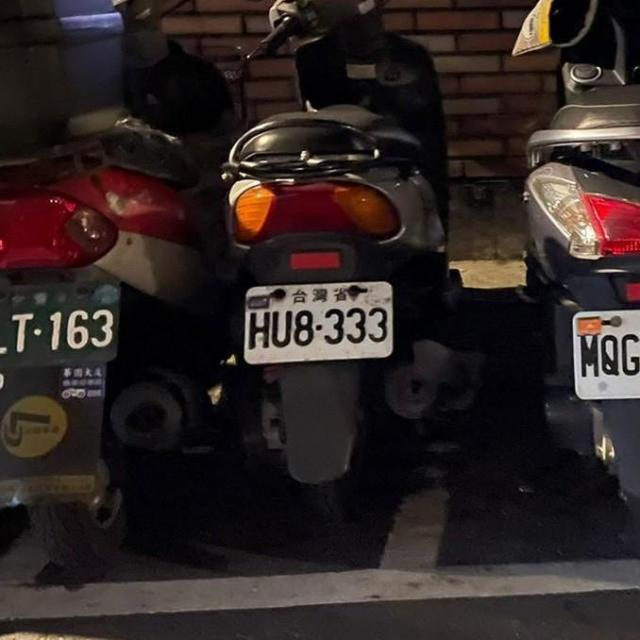GW: (2, 264, 129, 378)
W: (237, 273, 405, 371), (569, 301, 640, 401)
